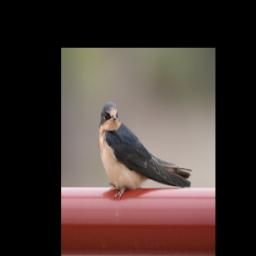Swallow: (98, 98, 193, 204)
